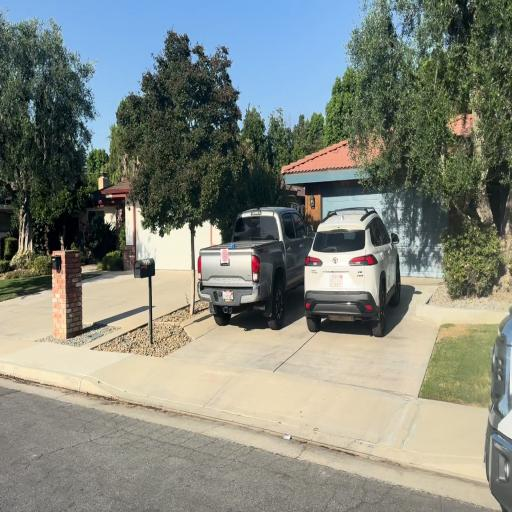bullseye: (221, 248, 228, 263)
